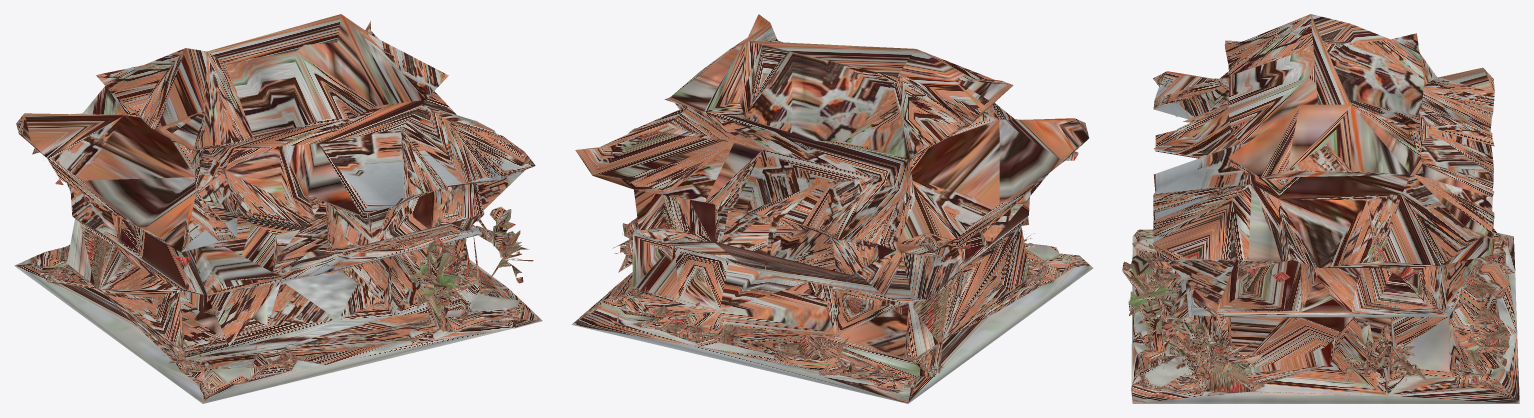
File: bq_yamen.lod2.glb
3 views of the same model, side by side, from view 1: azimuth 30°, elevation 25°; view 2: azimuth 150°, elevation 25°; view 3: azimuth 270°, elevation 25° (orthographic). The views are drawn at different scales.
Bounding box in the file's own units: 1.89 × 1.28 × 1.72.
Materials: 1 (1 with a texture image).
